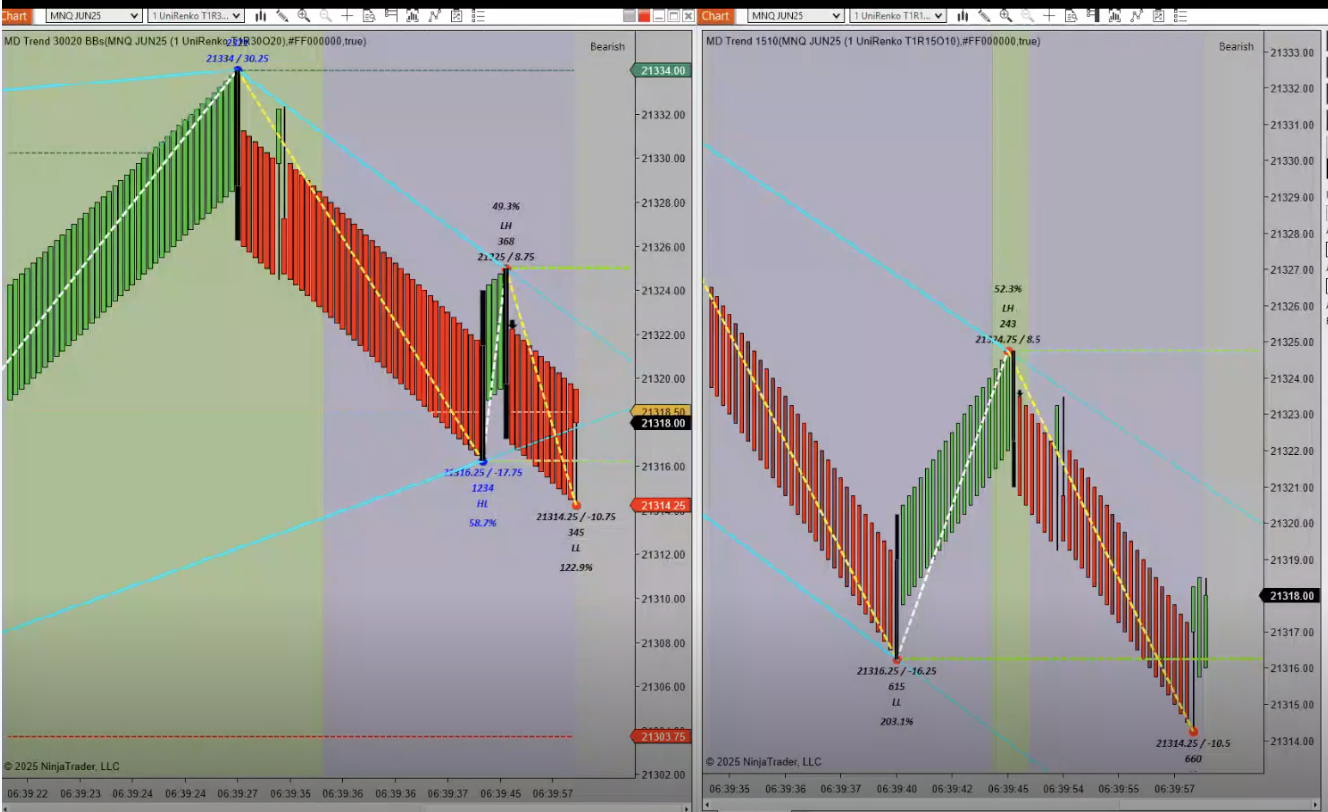candle: (891, 513, 899, 672), (502, 267, 508, 446), (479, 291, 484, 468), (1010, 351, 1016, 492), (235, 72, 239, 248)
